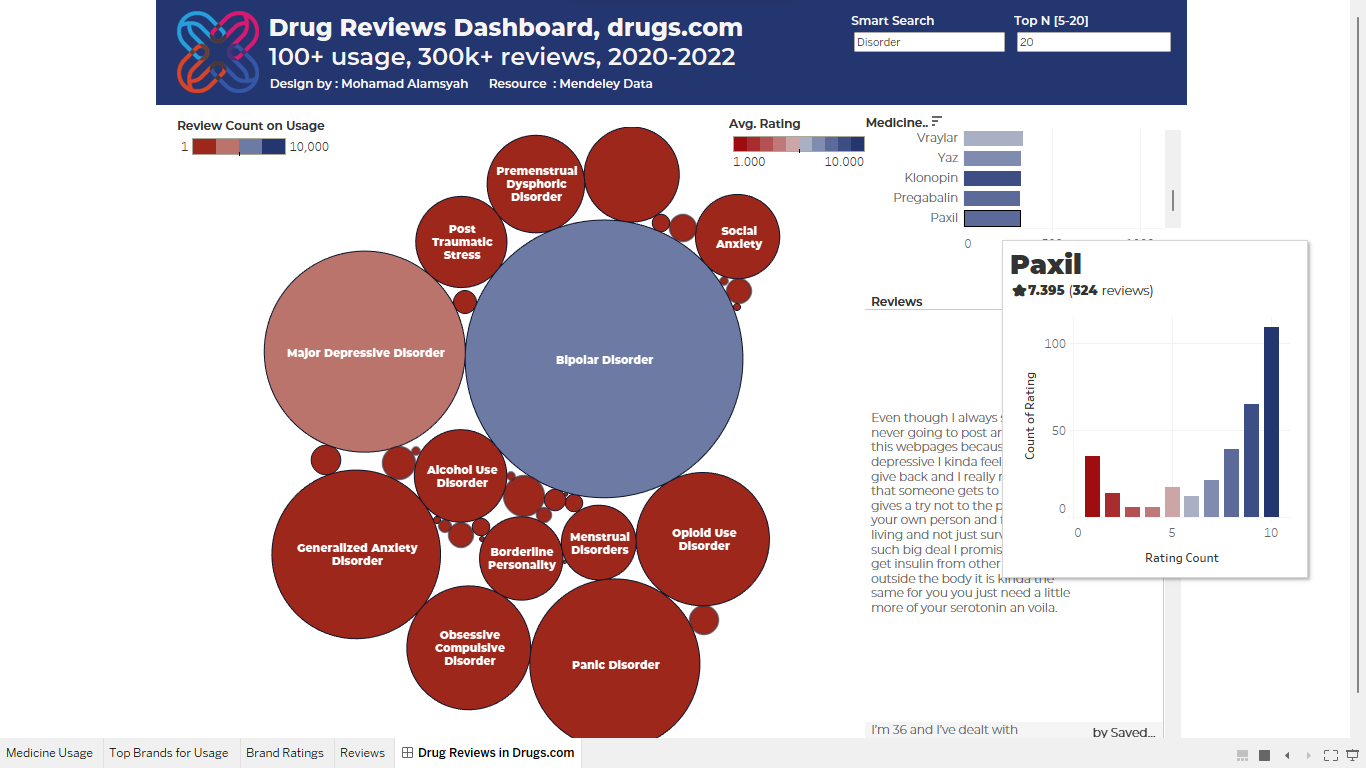

The dashboard page shown, as its layout file describes it:
{"tool":"tableau","page":{"name":"drug-reviews-bigquery","canvas":[1000,800],"ordinal":0},"visuals":[{"type":"text","box":[92,10,523,68]},{"type":"image","param":"C:/Users/acer/Downloads/PROJECTS-2.0/DrugReviews/drugscom-logomark-112x112.png","box":[11,14,78,83]},{"type":"parameter","param":"[Parameters].[Parameter 2]","box":[807,14,159,67]},{"type":"parameter","param":"[Parameters].[Parameter 1]","box":[619,15,151,44]},{"type":"text","box":[620,56,180,45]},{"type":"text","box":[819,62,134,33]},{"type":"text","box":[93,68,440,32]},{"type":"worksheet","title":"Top Brands by Usage","mark":"Automatic","rows":["MedicineBrandName"],"cols":["Reviews"],"box":[605,100,388,215]},{"type":"legend","title":"Medicine Usage","param":"[federated.18pzkps1q4mk2b1e8keax0oiqh2z].[cnt:MedicineUsedFor:qk]","box":[18,115,168,76]},{"type":"legend","title":"Top Brands by Usage","param":"[federated.18pzkps1q4mk2b1e8keax0oiqh2z].[avg:Rating:qk]","box":[357,117,233,76]},{"type":"worksheet","title":"Medicine Usage","mark":"Circle","box":[10,176,591,608]},{"type":"worksheet","title":"Top Generics by Usage","mark":"Automatic","rows":["MedicineGenericName"],"cols":["Reviews"],"box":[606,305,387,214]},{"type":"text","box":[608,525,384,47]},{"type":"worksheet","title":"Reviews","mark":"Automatic","rows":["Reviews"],"box":[605,556,388,234]}]}

Visuals, with their boxes on the page's 1000x800 design canvas (x1, y1, x2, y2). These are canvas units, not pixel positions in the 1366x768 screenshot, which may show the page scaled, cropped or inside an application window:
text: [92,10,615,78]
image: [11,14,89,97]
parameter: [807,14,966,81]
parameter: [619,15,770,59]
text: [620,56,800,101]
text: [819,62,953,95]
text: [93,68,533,100]
"Top Brands by Usage" worksheet: [605,100,993,315]
"Medicine Usage" legend: [18,115,186,191]
"Top Brands by Usage" legend: [357,117,590,193]
"Medicine Usage" worksheet (Circle marks): [10,176,601,784]
"Top Generics by Usage" worksheet: [606,305,993,519]
text: [608,525,992,572]
"Reviews" worksheet: [605,556,993,790]
